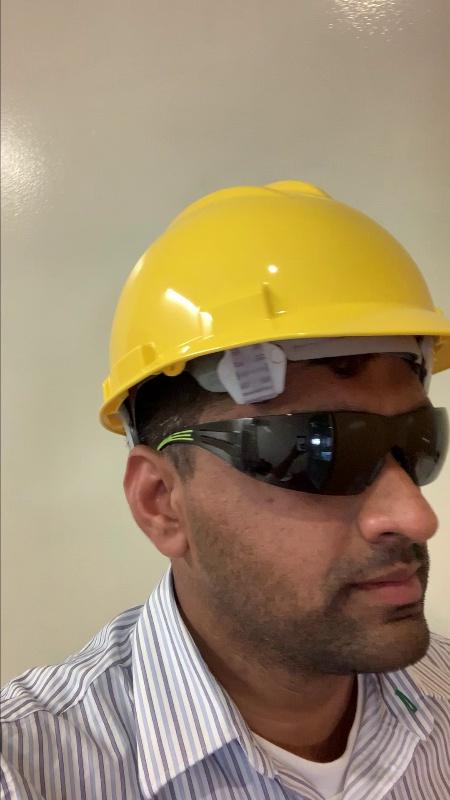glasses: (215, 400, 450, 493)
helmet: (85, 173, 447, 335)
